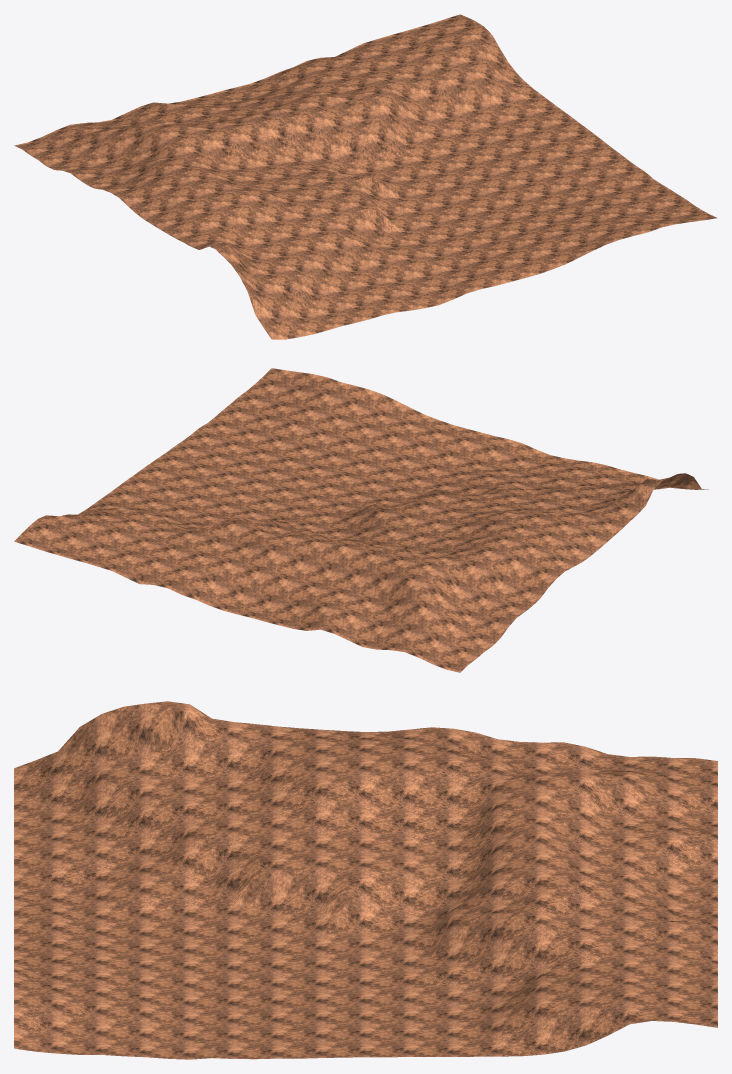
File: terrain_04_18.dae
3 renders of one model, top to bottom at view 1: azimuth 30°, elevation 25°; view 2: azimuth 150°, elevation 25°; view 3: azimuth 270°, elevation 25°, orthographic. The views are drawn at different scales.
Visible parts, largest first — view 1: terrain_04_18-node; view 2: terrain_04_18-node; view 3: terrain_04_18-node.
Part boxes in pixels (bbox=[...]): terrain_04_18-node: bbox=[14, 14, 717, 339]; terrain_04_18-node: bbox=[14, 368, 708, 672]; terrain_04_18-node: bbox=[14, 701, 717, 1059].
Bounding box in the file's own units: 128 × 128 × 15.26.
1 material, 1 textured.
